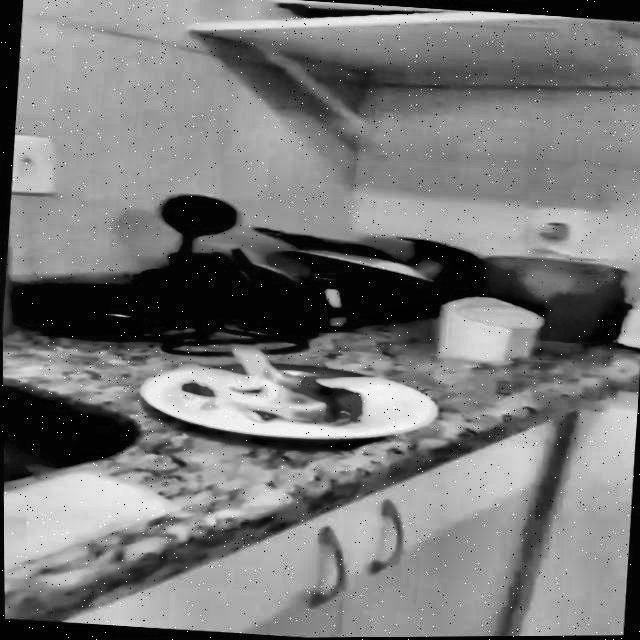Fire: (220, 344, 367, 433)
